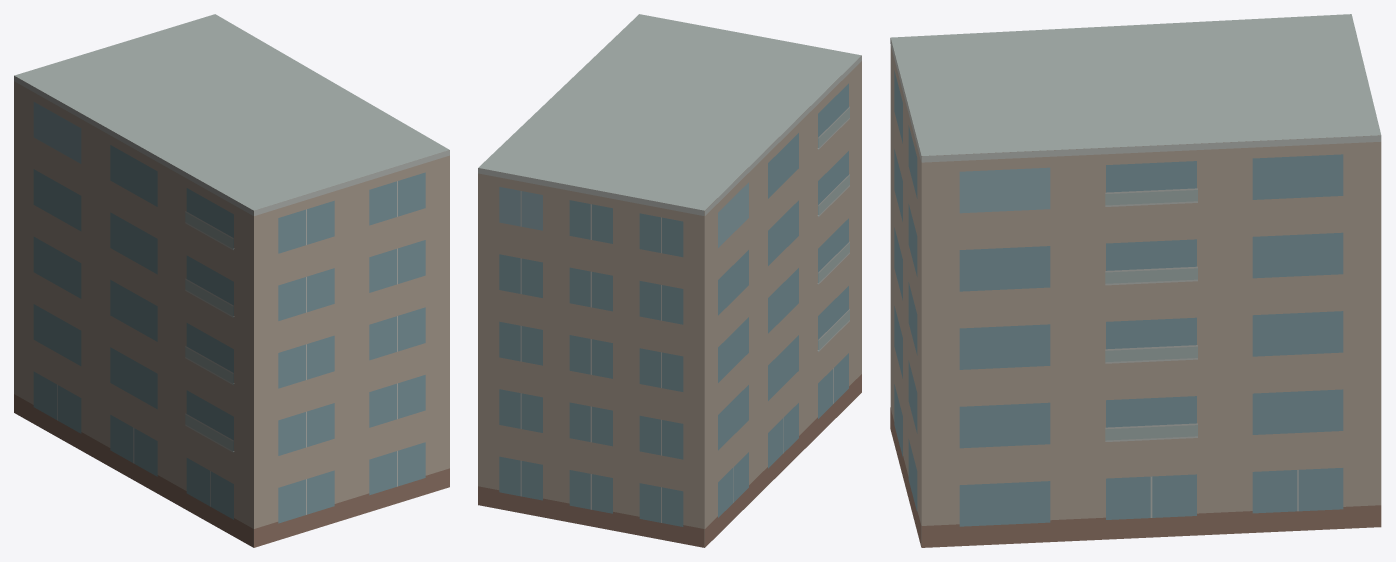
The model's file is survey-upis-32846133.glb.
The picture shows the model from 3 angles, left to right: view 1: azimuth 30°, elevation 25°; view 2: azimuth 150°, elevation 25°; view 3: azimuth 270°, elevation 25°; orthographic projection. The views are drawn at different scales.
Parts seen in each view (by area): view 1: survey-upis-32846133.tmp; view 2: survey-upis-32846133.tmp; view 3: survey-upis-32846133.tmp.
Part boxes in pixels (x1,y1,x2,y2): survey-upis-32846133.tmp: (14,14,449,547); survey-upis-32846133.tmp: (478,14,861,547); survey-upis-32846133.tmp: (890,14,1381,547).
Bounding box in the file's own units: 11.45 × 14.7 × 16.7.
